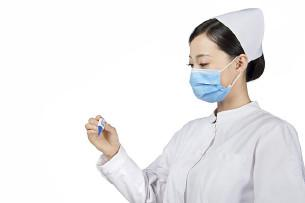OK: (187, 54, 237, 104)
